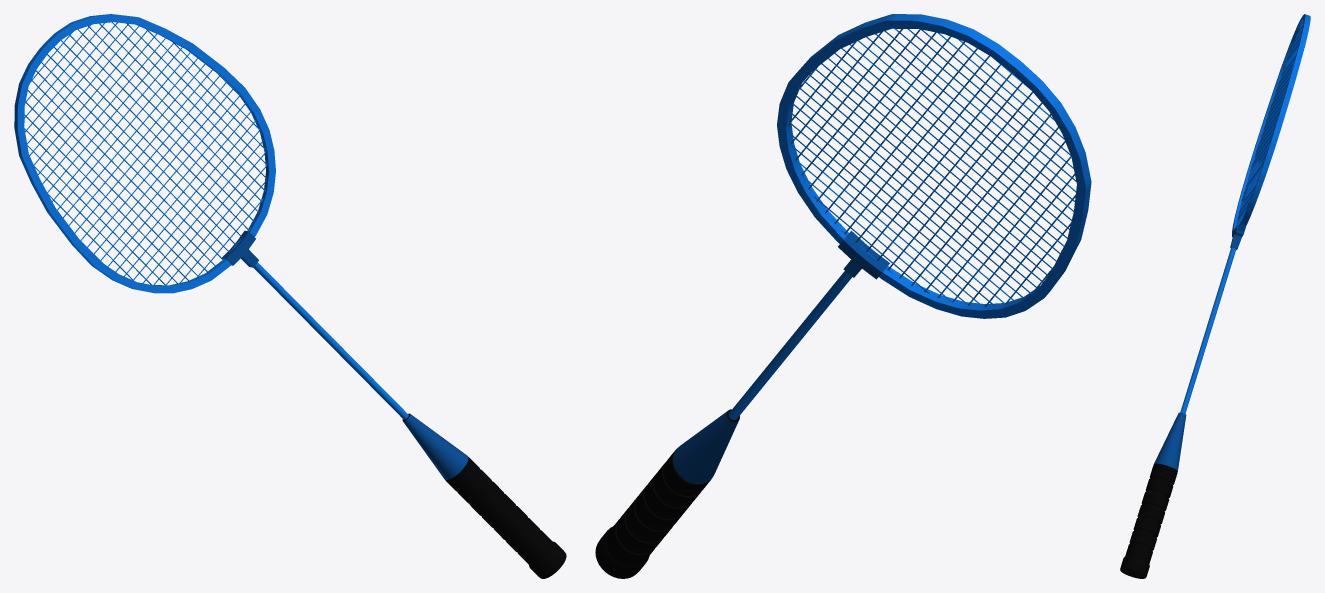
Rendered from badminton.glb.
3 views of the same model, side by side, from view 1: azimuth 30°, elevation 25°; view 2: azimuth 150°, elevation 25°; view 3: azimuth 270°, elevation 25° (orthographic). The views are drawn at different scales.
Parts seen in each view (by area): view 1: Cylinder.003; view 2: Cylinder.003; view 3: Cylinder.003.
Part boxes in pixels (x1=…): Cylinder.003: x1=14, y1=14, x2=566, y2=578; Cylinder.003: x1=595, y1=14, x2=1091, y2=578; Cylinder.003: x1=1120, y1=14, x2=1310, y2=578.
Size of the model in its own units: 1.85 by 2.23 by 0.8927.
